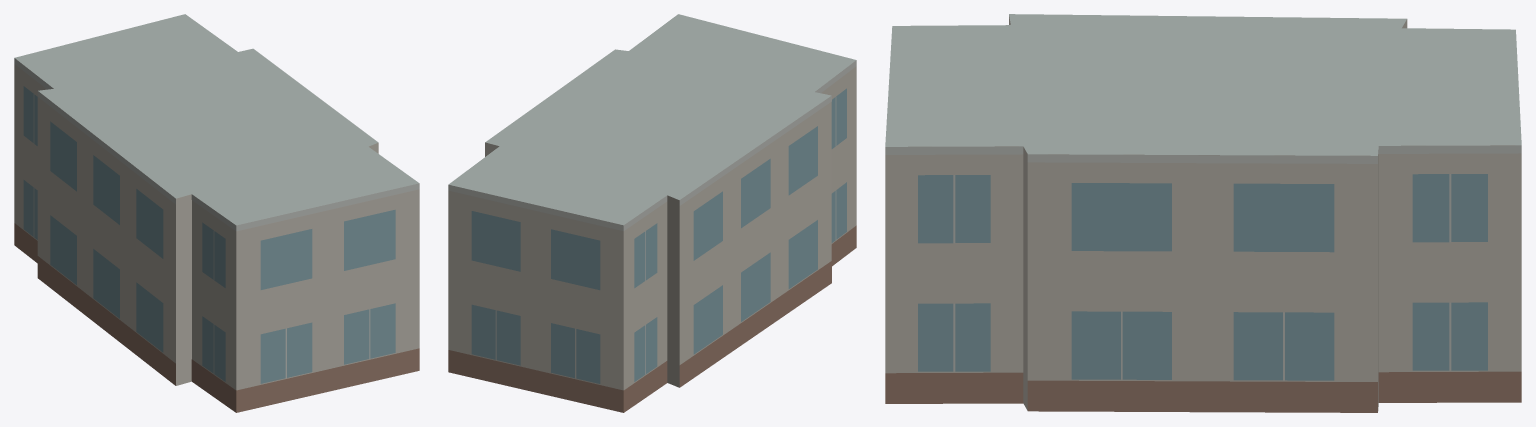
File: survey-upis-32765229.glb
3 renders of one model, left to right at view 1: azimuth 30°, elevation 25°; view 2: azimuth 150°, elevation 25°; view 3: azimuth 270°, elevation 25°, orthographic. The views are drawn at different scales.
Visible parts, largest first — view 1: survey-upis-32765229.tmp; view 2: survey-upis-32765229.tmp; view 3: survey-upis-32765229.tmp.
Part boxes in pixels (<box>): survey-upis-32765229.tmp: <box>14,14,419,412</box>; survey-upis-32765229.tmp: <box>448,14,856,412</box>; survey-upis-32765229.tmp: <box>885,14,1521,412</box>.
Bounding box in the file's own units: 9.12 × 7.7 × 17.29.
